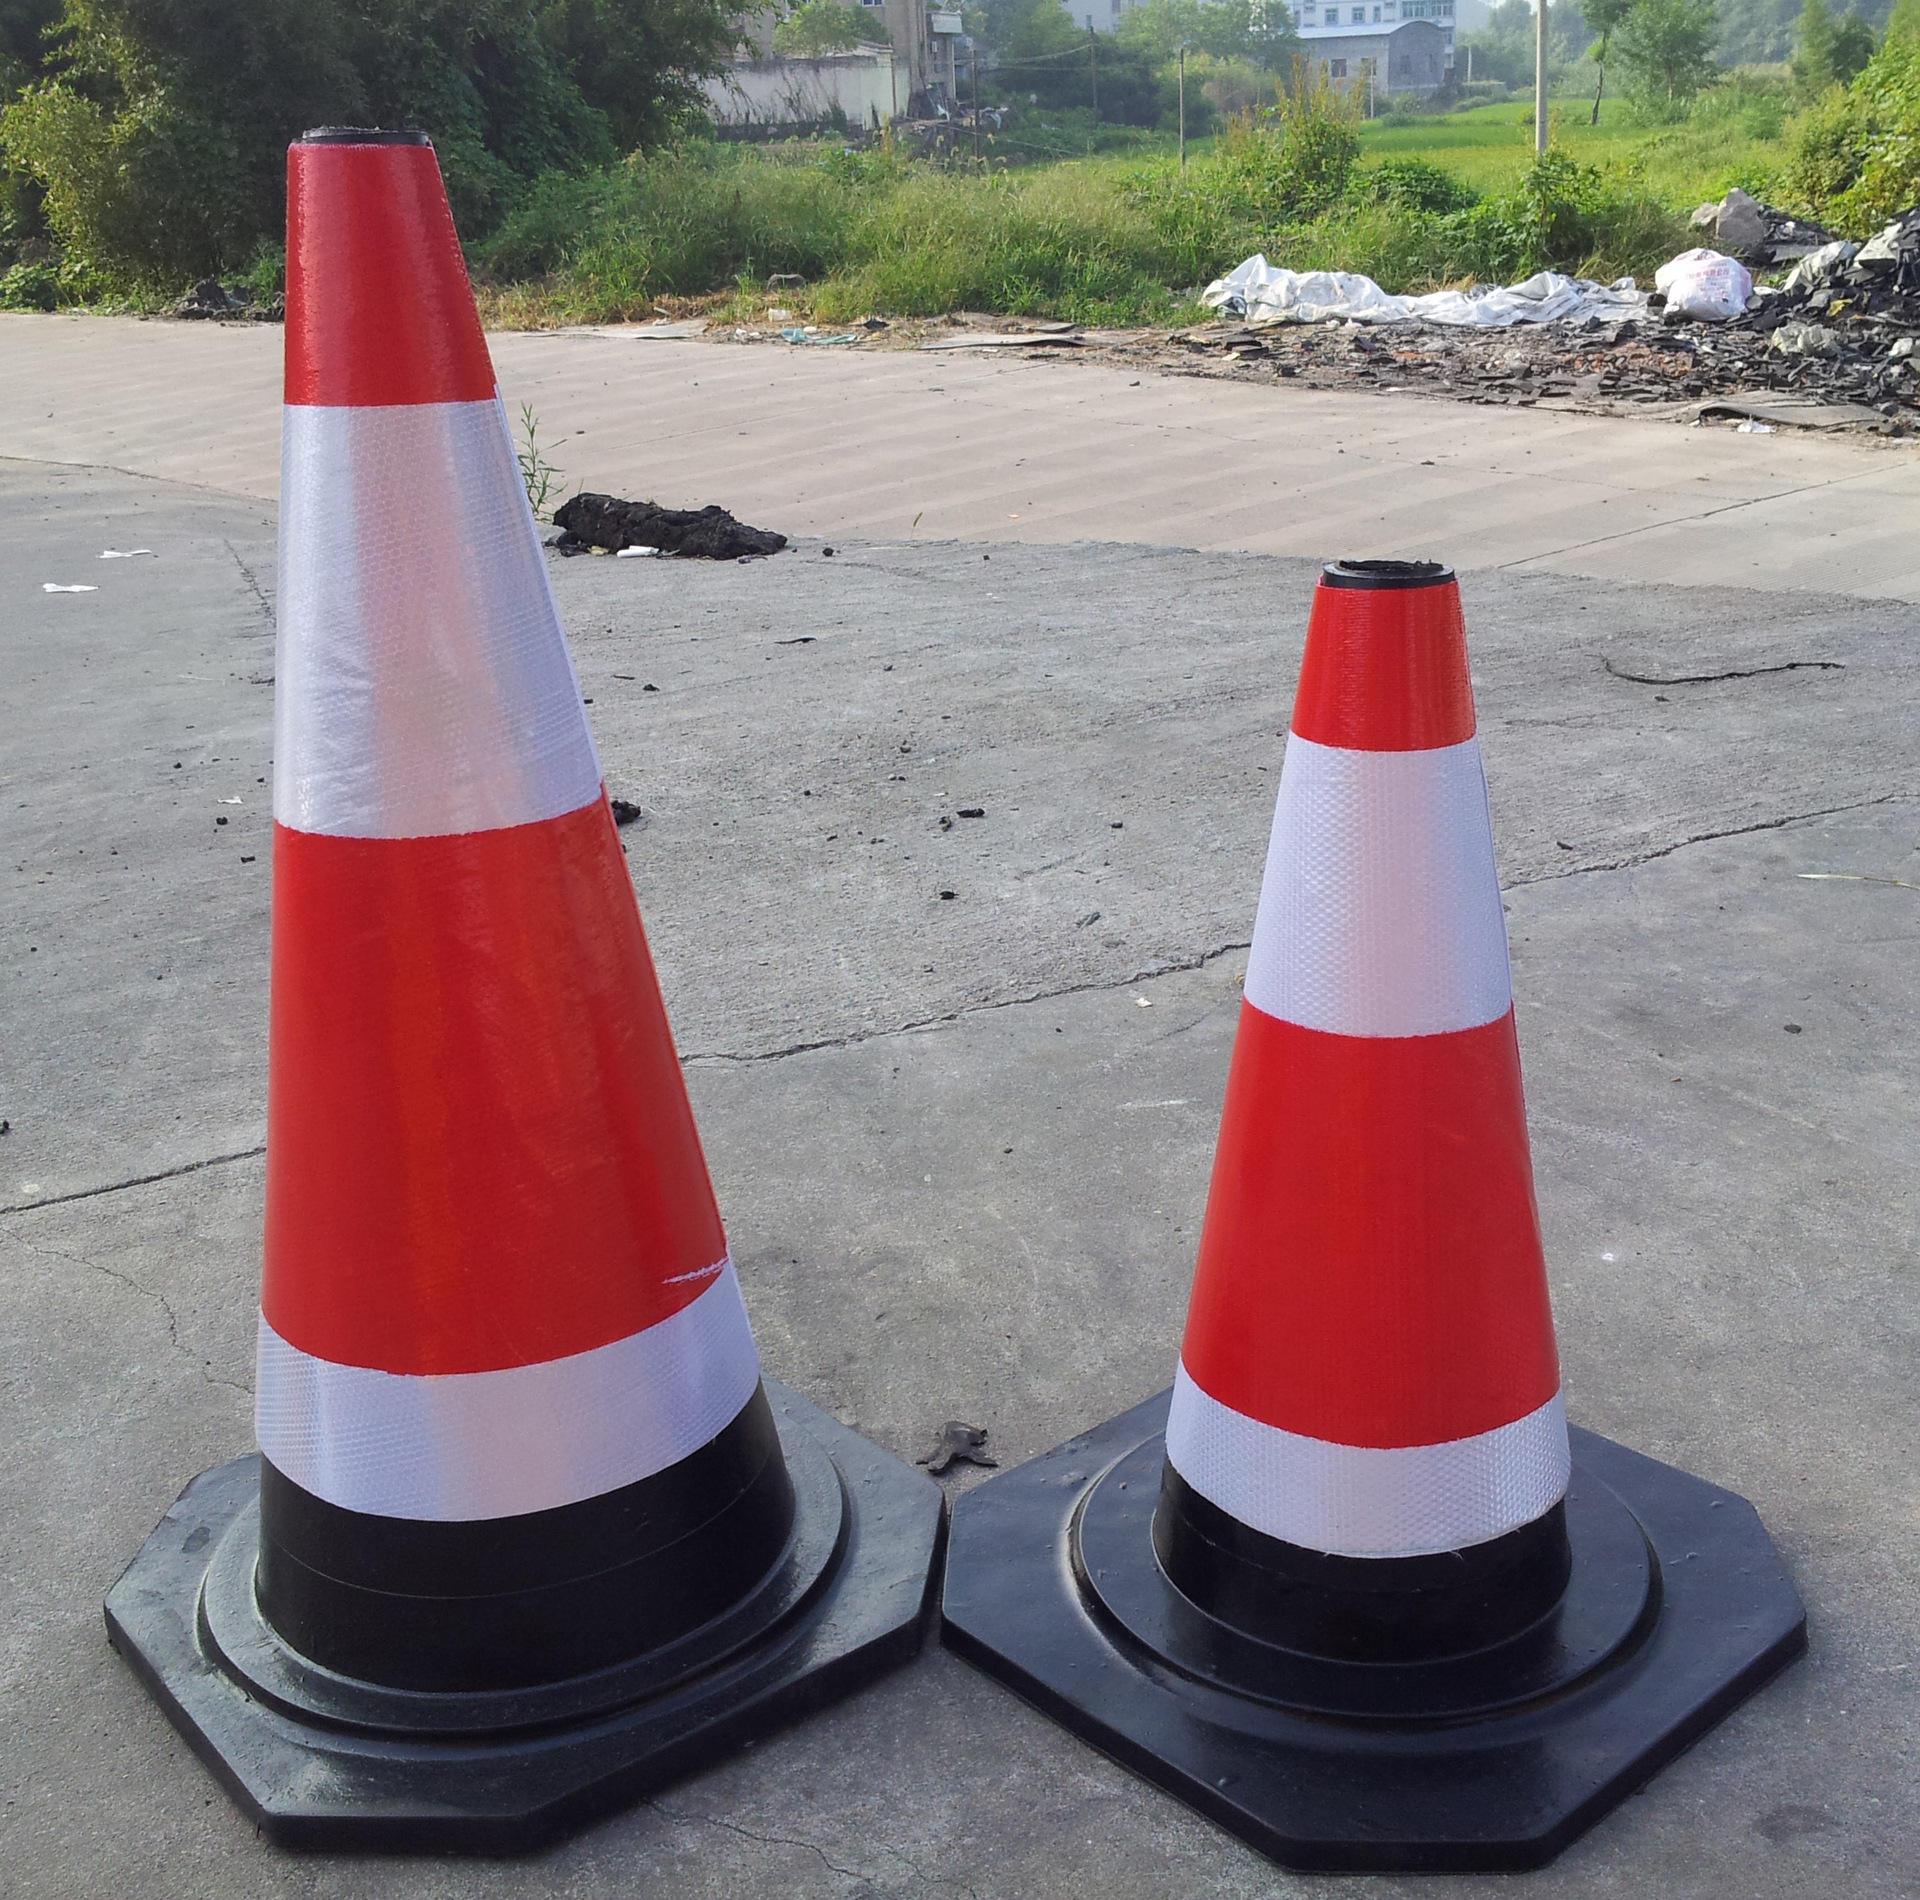traffic_cone: (77, 117, 951, 1843), (991, 517, 1837, 1858)
